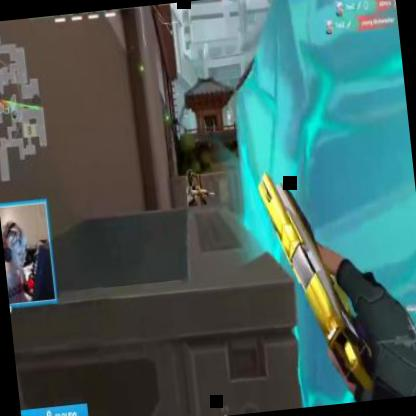enemy: (181, 166, 210, 249)
enemy_head: (190, 172, 198, 186)
